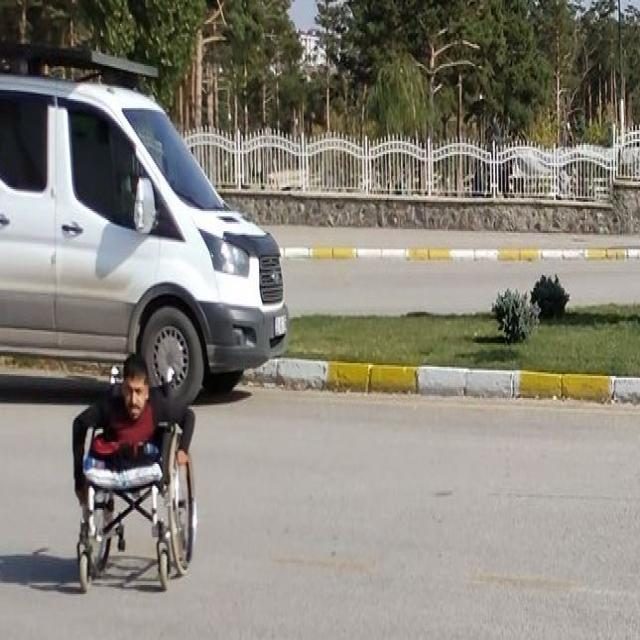wheelchairs: (69, 388, 207, 604)
